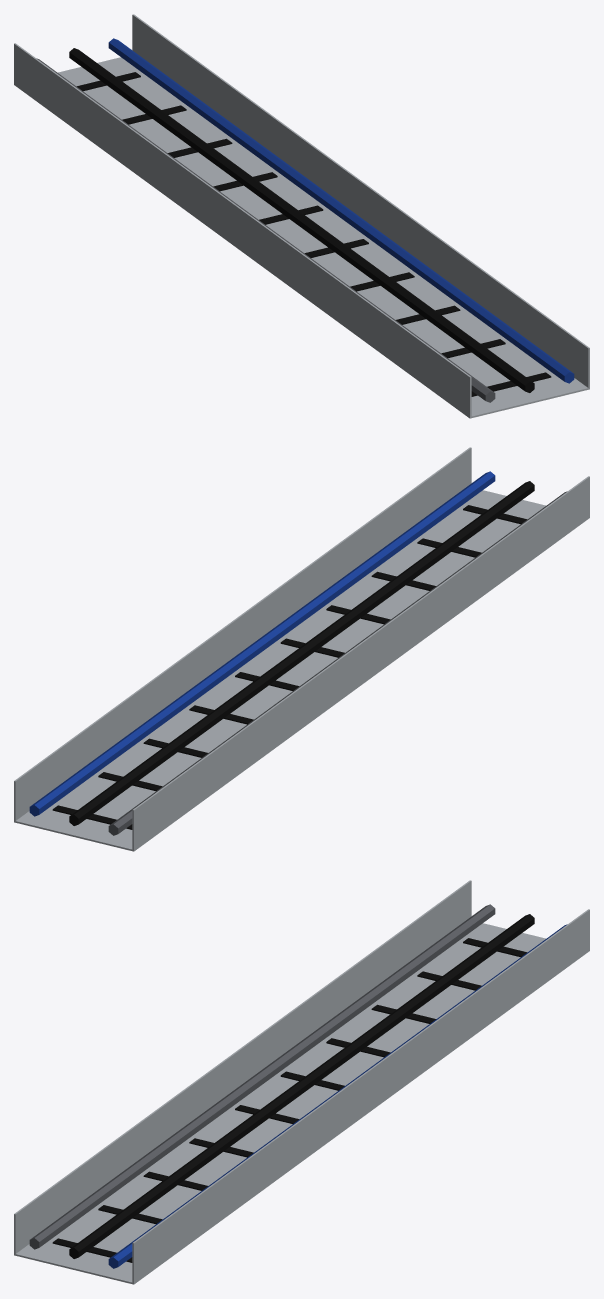
The model's file is services.tray.run_150.glb.
3 views of the same model, one above another, from view 1: azimuth 30°, elevation 25°; view 2: azimuth 150°, elevation 25°; view 3: azimuth 330°, elevation 25° (orthographic).
Parts seen in each view (by area): view 1: main__steel_galvanised, main__plastic_black, main__plastic_blue, main__plastic_grey; view 2: main__steel_galvanised, main__plastic_black, main__plastic_blue, main__plastic_grey; view 3: main__steel_galvanised, main__plastic_black, main__plastic_grey, main__plastic_blue.
Part boxes in pixels (x1,y1,x2,y2): main__steel_galvanised: (14, 14, 589, 418); main__plastic_black: (69, 48, 551, 396); main__plastic_blue: (108, 38, 574, 383); main__plastic_grey: (36, 58, 495, 402); main__steel_galvanised: (14, 447, 589, 851); main__plastic_black: (52, 481, 534, 829); main__plastic_blue: (29, 471, 495, 816); main__plastic_grey: (108, 491, 567, 835); main__steel_galvanised: (14, 880, 589, 1284); main__plastic_black: (52, 914, 534, 1262); main__plastic_grey: (29, 904, 495, 1249); main__plastic_blue: (108, 924, 567, 1268).
Size of the model in its own units: 0.152 by 0.05 by 1.
